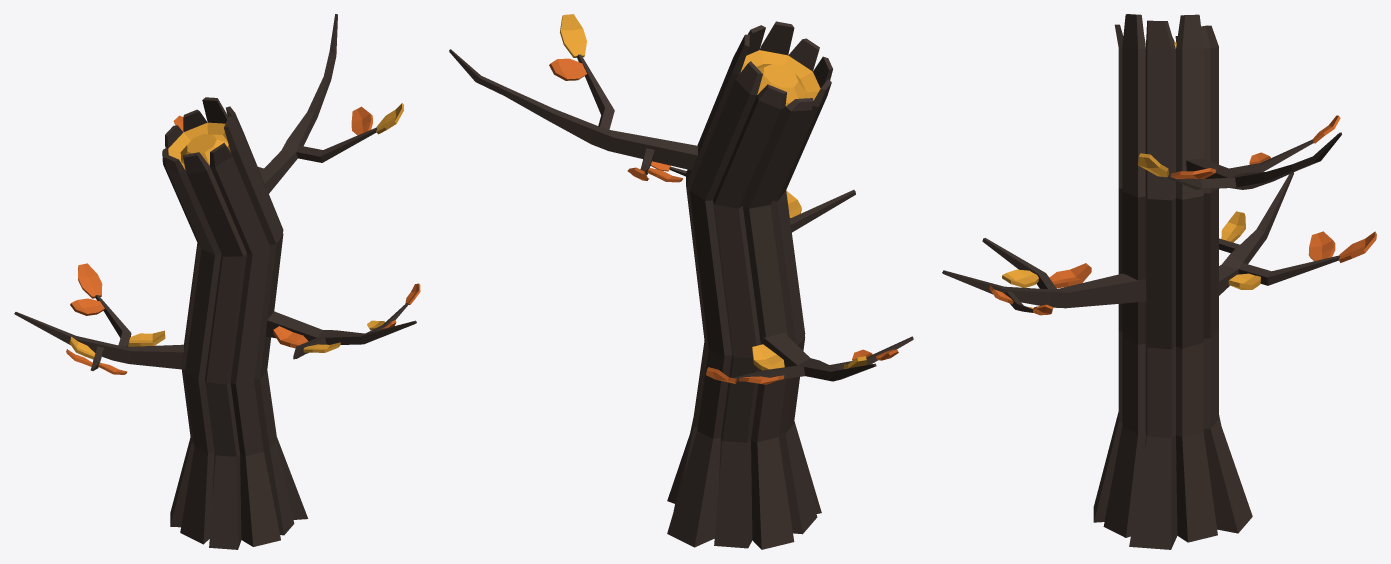
File: Broken_Tree_Autumn.fbx
The picture shows the model from 3 angles, left to right: view 1: azimuth 30°, elevation 25°; view 2: azimuth 150°, elevation 25°; view 3: azimuth 270°, elevation 25°; orthographic projection. The views are drawn at different scales.
Visible parts, largest first — view 1: Broken_Tree_Autumn; view 2: Broken_Tree_Autumn; view 3: Broken_Tree_Autumn.
Part boxes in pixels (x1,y1,x2,y2): Broken_Tree_Autumn: (14,14,420,549); Broken_Tree_Autumn: (449,14,913,549); Broken_Tree_Autumn: (942,14,1376,549).
Bounding box in the file's own units: 292 × 341 × 273.
